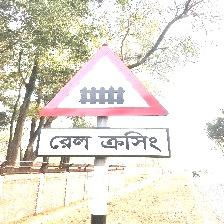Rail-crossing: (36, 44, 172, 158)
